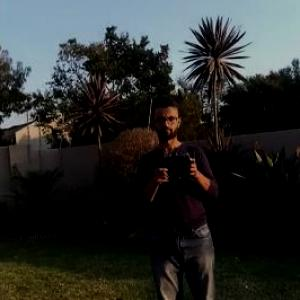follow: (126, 88, 228, 299)
